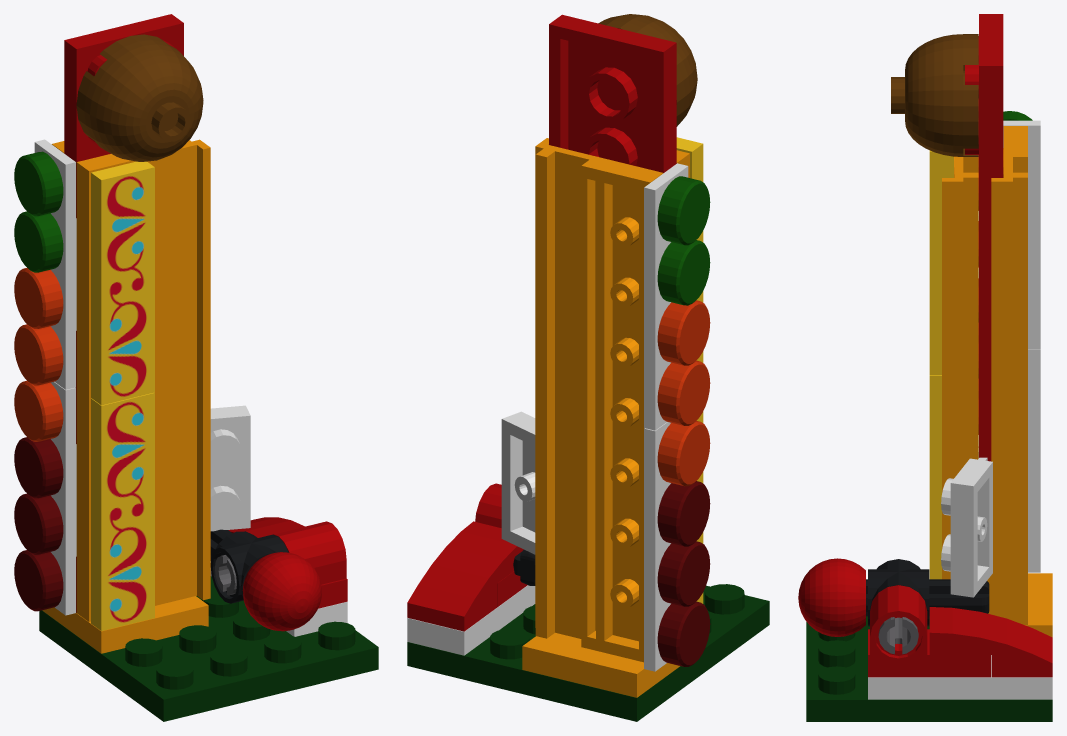
Rendered from funfair1.FBX.
3 renders of one model, left to right at view 1: azimuth 30°, elevation 25°; view 2: azimuth 150°, elevation 25°; view 3: azimuth 270°, elevation 25°, orthographic. The views are drawn at different scales.
Visible parts, largest first — view 1: FunFair1; view 2: FunFair1; view 3: FunFair1.
Boxes of the visible parts, x1,y1,x2,y2 form: FunFair1: (14, 14, 378, 721); FunFair1: (407, 14, 769, 721); FunFair1: (798, 14, 1052, 721).
Size of the model in its own units: 1.45 by 3.4 by 1.3.
11 materials, 1 textured.
